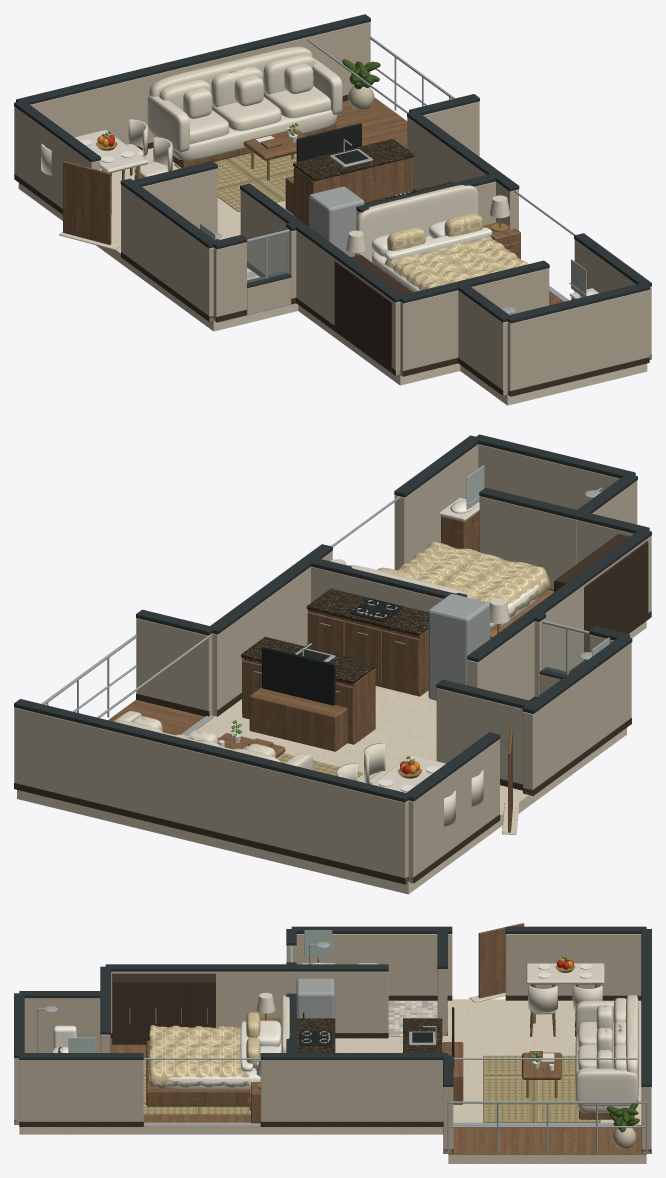
Rendered from lavista-11.glb.
3 renders of one model, top to bottom at view 1: azimuth 30°, elevation 25°; view 2: azimuth 150°, elevation 25°; view 3: azimuth 270°, elevation 25°, orthographic. The views are drawn at different scales.
Parts seen in each view (by area): view 1: Ivory masonry.009, Ivory masonry.005, Apartment foundation, Ivory masonry.003, Dark fitted wardrobe, Soft jacquard duvet with folds.003, Padded headboard.003, Ivory masonry.011, Open walnut door leaf, Ivory masonry.004, Ivory masonry, Ivory masonry.007 (+52 smaller); view 2: Ivory masonry.005, Apartment foundation, Ivory masonry.003, Ivory masonry.004, Ivory masonry.007, Ivory masonry.006, Ivory masonry.012, Soft jacquard duvet with folds.003, Dark fitted wardrobe, Ivory masonry.009, Ivory masonry.015, Brushed refrigerator (+38 smaller); view 3: Apartment foundation, Ivory masonry.007, Ivory masonry.008, Ivory masonry.004, Ivory masonry.003, Living woven carpet, Soft jacquard duvet with folds.003, Ivory masonry.014, Ivory masonry, Ivory masonry.010, Balcony · timber deck.001, Balcony · timber deck (+63 smaller).
Part boxes in pixels (x1,y1,x2,y2): Ivory masonry.009: (507, 290, 649, 395); Ivory masonry.005: (30, 22, 370, 145); Apartment foundation: (18, 148, 647, 405); Ivory masonry.003: (121, 184, 213, 321); Dark fitted wardrobe: (334, 255, 411, 372); Soft jacquard duvet with folds.003: (382, 236, 528, 292); Padded headboard.003: (355, 185, 478, 262); Ivory masonry.011: (400, 290, 458, 375); Open walnut door leaf: (63, 161, 111, 244); Ivory masonry.004: (14, 106, 100, 208); Ivory masonry: (296, 230, 400, 375); Ivory masonry.007: (407, 117, 518, 230); Ivory masonry.005: (14, 707, 408, 882); Apartment foundation: (17, 621, 646, 894); Ivory masonry.003: (523, 642, 631, 795); Ivory masonry.004: (408, 739, 499, 883); Ivory masonry.007: (212, 551, 332, 716); Ivory masonry.006: (136, 618, 212, 715); Ivory masonry.012: (479, 496, 576, 589); Soft jacquard duvet with folds.003: (397, 541, 551, 628); Dark fitted wardrobe: (555, 534, 648, 662); Ivory masonry.009: (478, 444, 619, 509); Ivory masonry.015: (436, 688, 522, 784); Brushed refrigerator: (428, 594, 490, 700); Apartment foundation: (19, 999, 646, 1163); Ivory masonry.007: (260, 1060, 443, 1121); Ivory masonry.008: (19, 1060, 143, 1121); Ivory masonry.004: (505, 934, 641, 995); Ivory masonry.003: (296, 934, 452, 995); Living woven carpet: (483, 1055, 600, 1122); Soft jacquard duvet with folds.003: (149, 1025, 249, 1087); Ivory masonry.014: (291, 971, 388, 1032); Ivory masonry: (111, 971, 291, 1032); Ivory masonry.010: (24, 998, 100, 1052); Balcony · timber deck.001: (448, 1125, 646, 1154); Balcony · timber deck: (453, 1125, 641, 1153).
Size of the model in its own units: 5.96 by 1.37 by 9.54.
25 materials, 6 textured.
